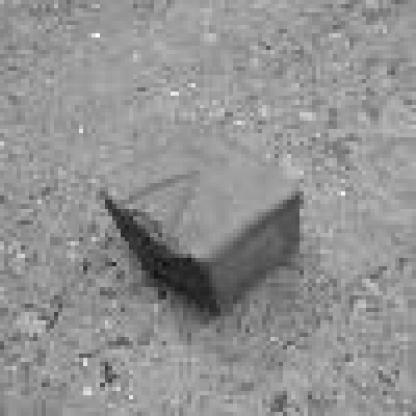brick: (102, 124, 300, 314)
